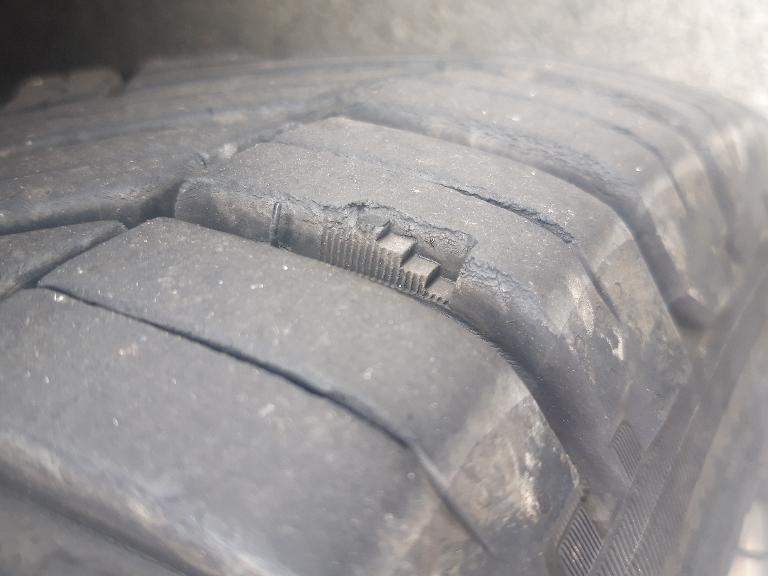temoin:80: (310, 190, 486, 317)
